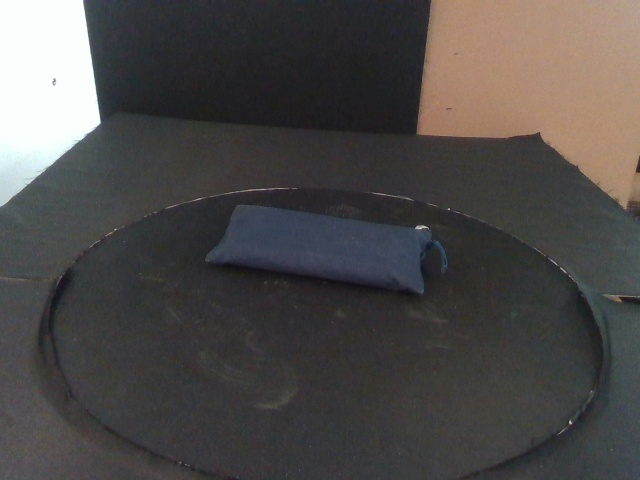pencil_case: (205, 204, 430, 300)
